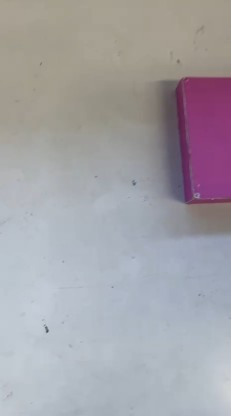pink: (172, 74, 227, 205)
